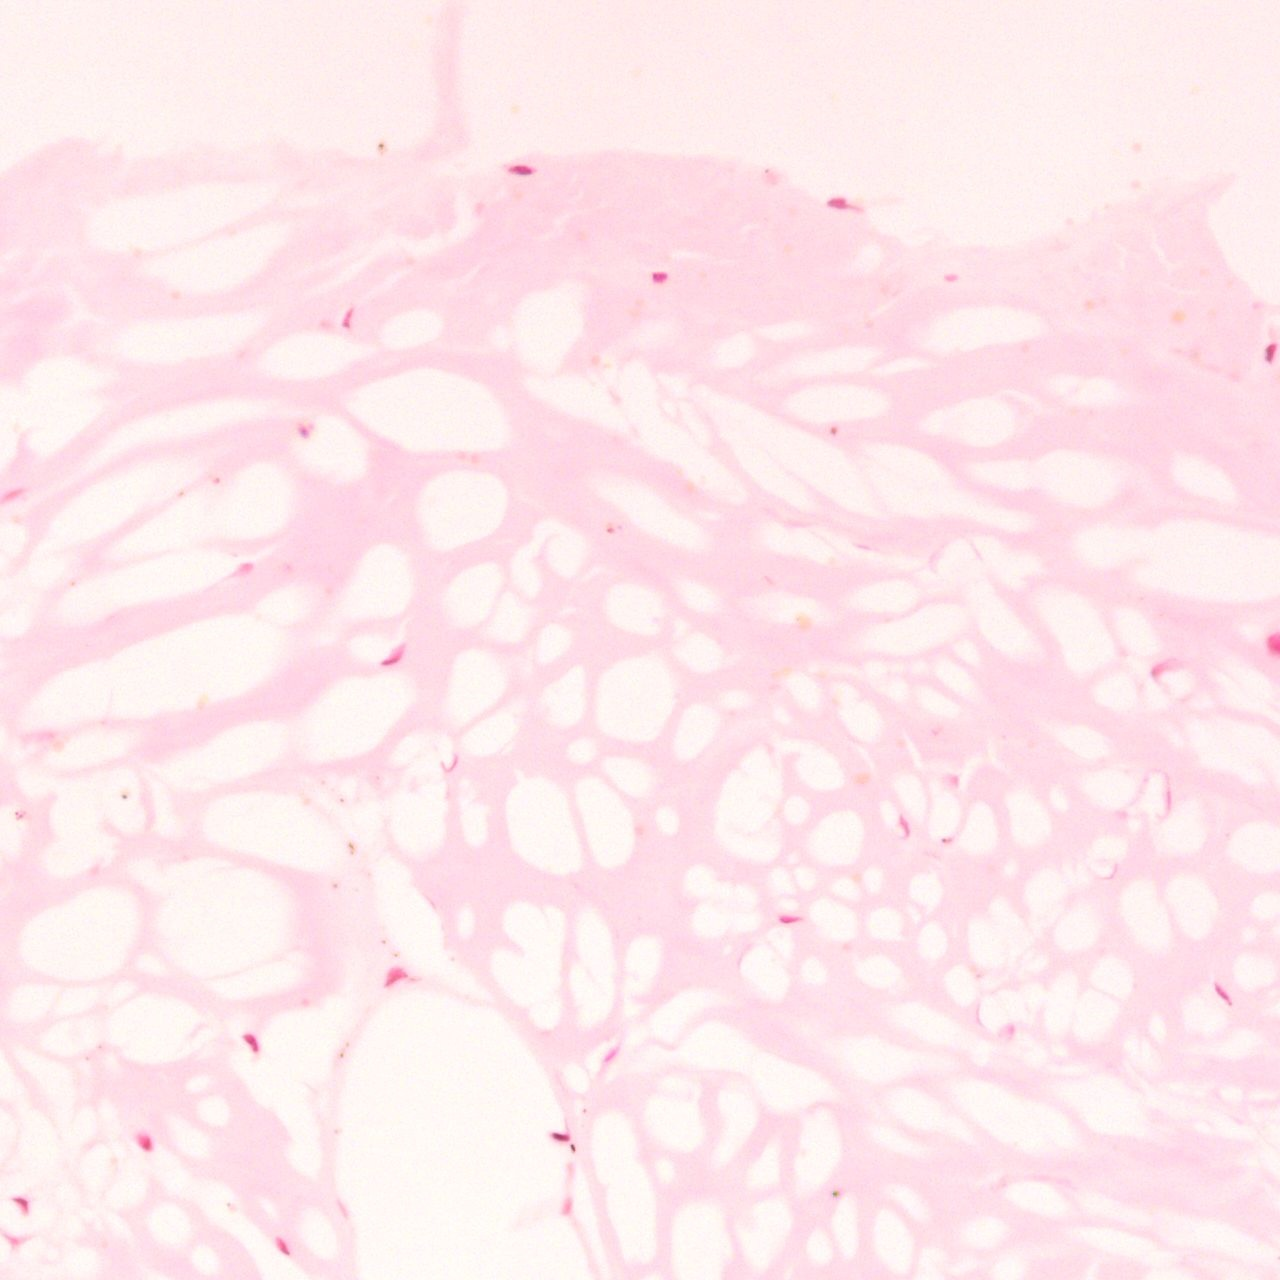dust: (374, 138, 389, 155), (345, 840, 358, 857), (120, 788, 131, 799), (830, 1189, 839, 1198), (336, 794, 345, 804)
nucleus-AC: (375, 640, 413, 675), (1208, 979, 1235, 1009), (239, 1027, 263, 1056), (11, 1192, 35, 1217), (894, 813, 914, 840), (823, 197, 859, 211), (271, 1235, 291, 1258), (135, 1129, 154, 1150), (1265, 633, 1280, 659), (1264, 341, 1278, 365), (506, 163, 537, 173), (777, 913, 801, 925), (547, 1131, 571, 1143), (651, 268, 667, 282), (341, 307, 352, 328), (298, 422, 309, 438), (942, 272, 960, 282), (939, 837, 954, 846)
